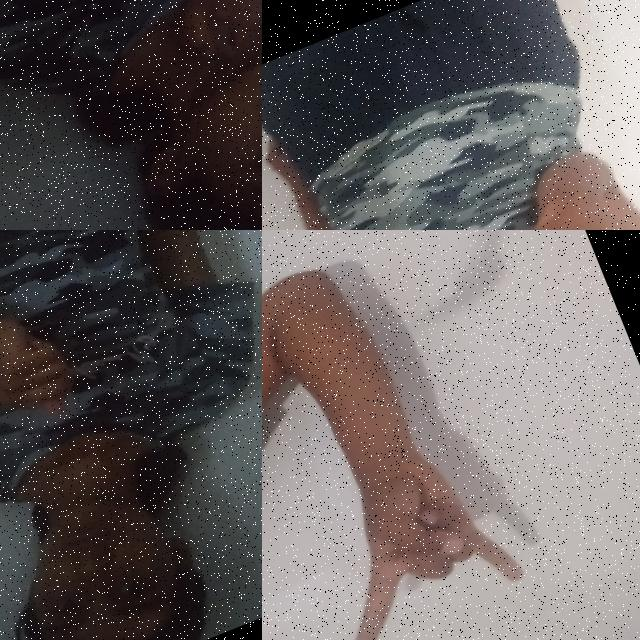Chin Flick: (68, 0, 262, 230)
Corna: (278, 414, 548, 640)
Dulya: (0, 290, 92, 448)
Middle Finger: (479, 146, 640, 230)
